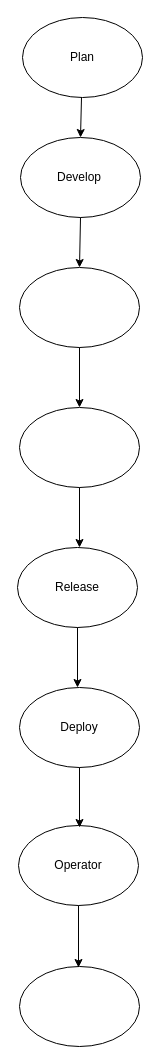
The diagram is 160 pixels wide and 1064 high, and some of its shapes have lost their labels. Each missing label, with the box of its shape:
Built: (18, 266, 140, 348)
Test: (18, 406, 140, 488)
